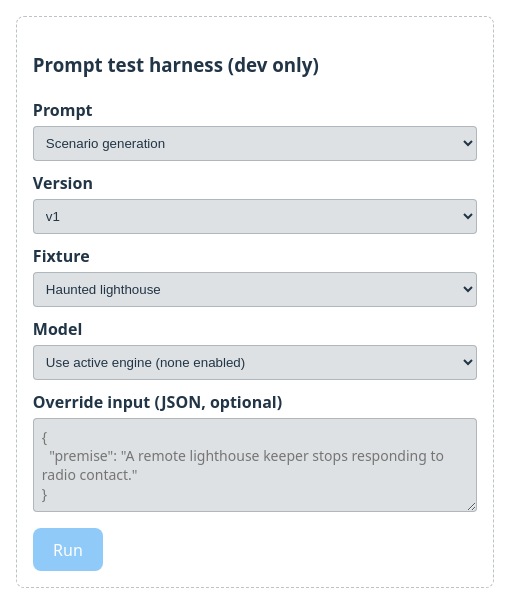
Test: PromptTestHarness › enables Run once an override model tier is selected, without requiring the shared engine
This screenshot has width=511, height=605.
Select "Small (fastest, least capable)" in the dropdown labelled "Model" at (255, 363), box [33,345,477,380]
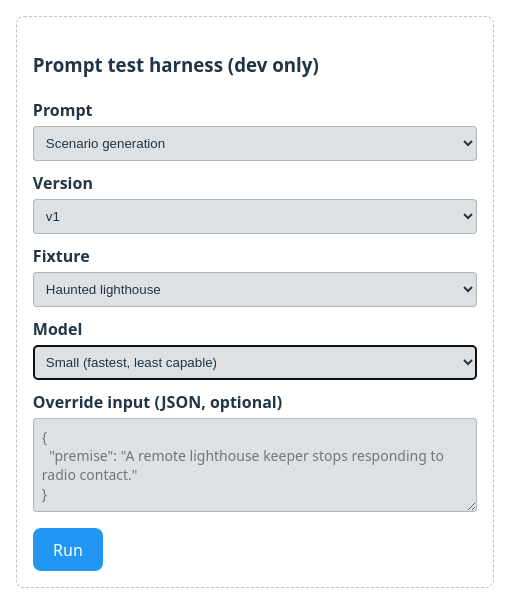
Result: the button "Run" is enabled at [33,528,103,571]
